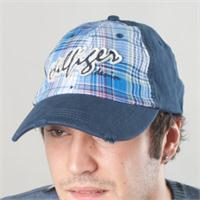hat: (12, 16, 184, 143)
